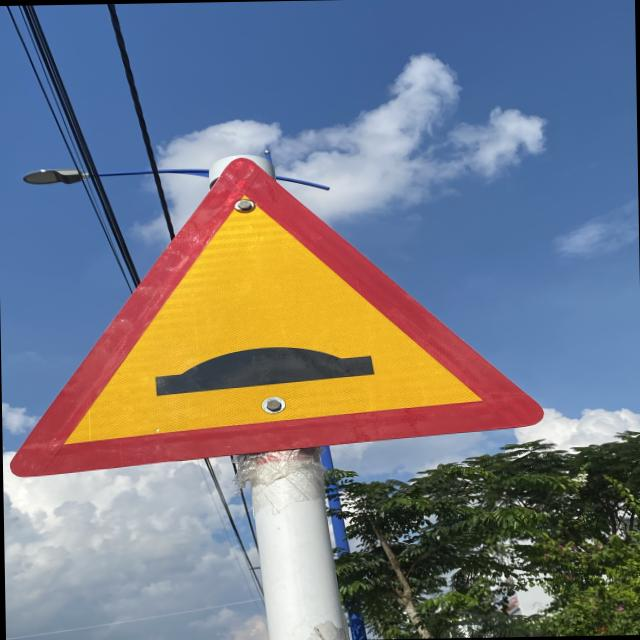Duong_Cong_Ben_Phai: (8, 151, 545, 476)
